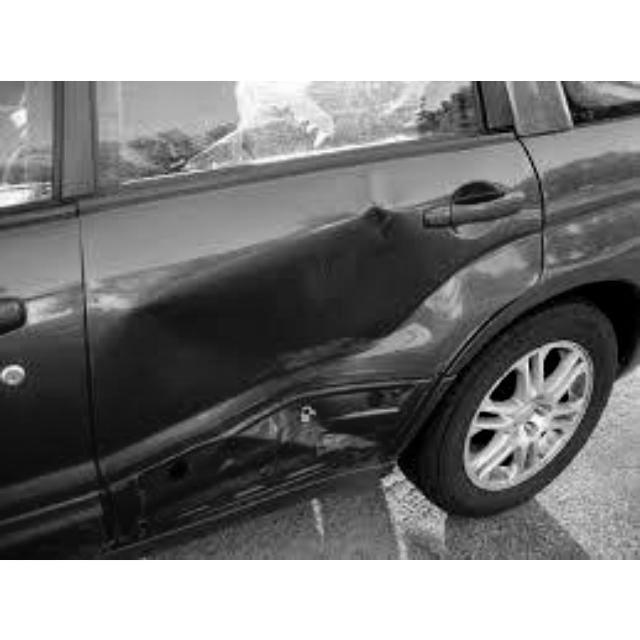doorouter-dent: (121, 199, 499, 549)
